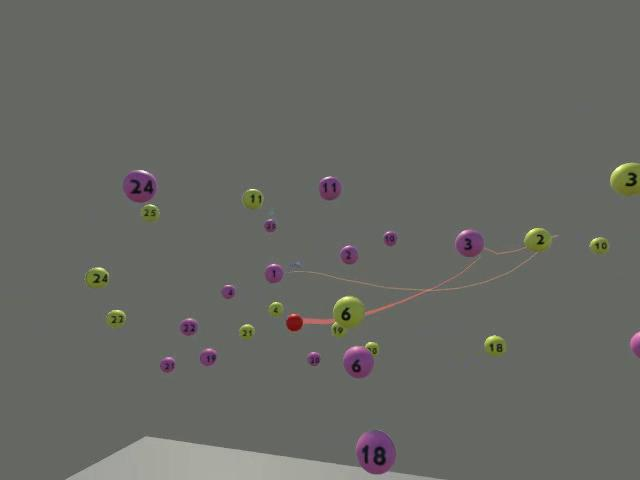ball_01_pink: (264, 263, 283, 283)
ball_02_pink: (339, 244, 358, 264)
ball_02_yellow: (523, 227, 551, 252)
ball_03_pink: (454, 228, 483, 257)
ball_03_yellow: (609, 162, 639, 196)
ball_04_pink: (221, 284, 235, 299)
ball_04_yellow: (268, 301, 283, 316)
ball_06_pink: (342, 345, 373, 378)
ball_06_yellow: (332, 295, 364, 328)
ball_10_pink: (383, 230, 397, 246)
ball_10_yellow: (589, 236, 609, 254)
ball_11_pink: (318, 175, 341, 200)
ball_11_yellow: (242, 188, 263, 209)
ball_18_pink: (355, 429, 395, 474)
ball_18_yellow: (483, 334, 506, 355)
ball_19_pink: (199, 347, 217, 366)
ball_20_pink: (306, 351, 320, 365)
ball_21_pink: (159, 356, 174, 373)
ball_21_yellow: (238, 323, 254, 339)
ball_22_pink: (179, 317, 198, 335)
ball_22_yellow: (105, 309, 126, 328)
ball_24_pink: (122, 169, 157, 202)
ball_24_yellow: (85, 266, 108, 288)
ball_25_pink: (263, 218, 276, 232)
ball_25_yellow: (140, 203, 159, 221)
ball_unknown: (629, 331, 639, 358), (330, 321, 345, 337), (364, 341, 379, 356)
user_cursor: (285, 313, 303, 331)
